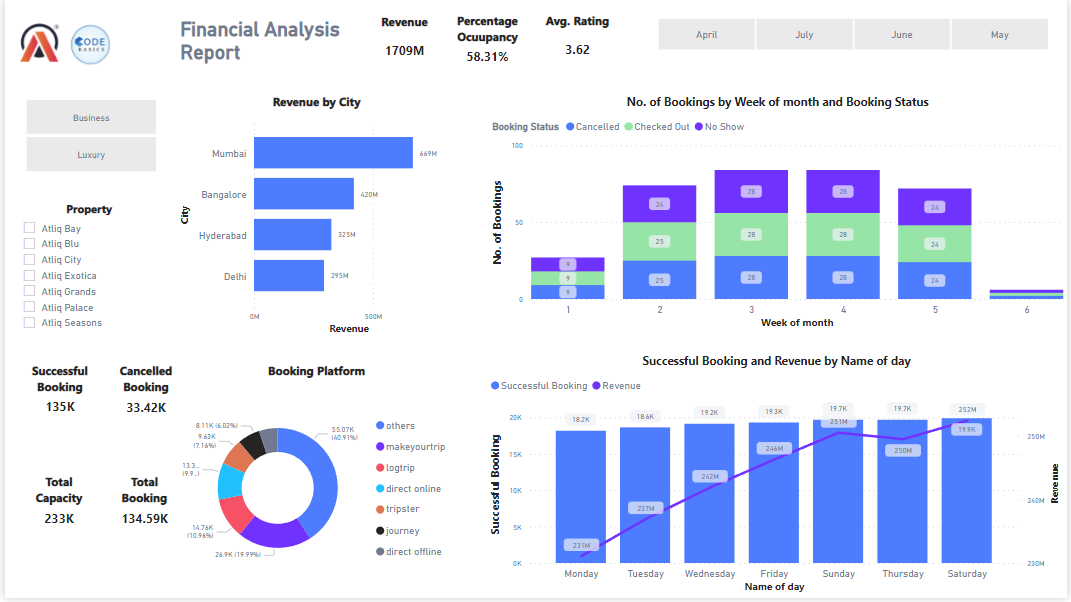

The dashboard page shown, as its layout file describes it:
{"tool":"powerbi","page":{"name":"Free Template","canvas":[1280,720],"ordinal":0},"visuals":[{"type":"card","title":"Revenue","fields":{"Values":["Sum(fact_bookings.revenue_realized)"]},"box":[431.8,16.5,100,72.9],"z":1000},{"type":"card","title":"Total Booking","fields":{"Values":["Count(fact_bookings.booking_id)"]},"box":[118.8,571.2,97.5,72.5],"z":2000},{"type":"card","title":"Avg. Rating","fields":{"Values":["Avg(fact_bookings.ratings_given)"]},"box":[640,15.3,100,71.8],"z":3000},{"type":"card","title":"Total Capacity","fields":{"Values":["Sum(fact_aggregated_bookings.capacity)"]},"box":[16.2,571.2,98.8,72.5],"z":4000},{"type":"card","title":"Successful Booking","fields":{"Values":["Sum(fact_aggregated_bookings.successful_bookings)"]},"box":[10.6,437.6,110.6,71.8],"z":5000},{"type":"card","title":"Cancelled Booking","fields":{"Values":["CountNonNull(fact_bookings.booking_status)"]},"box":[120,437.5,98.8,72.5],"z":6000},{"type":"card","title":"Percentage Ocuupancy","fields":{"Values":["Avg(fact_aggregated_bookings.Per_occu)"]},"box":[531.8,15.3,100,71.8],"z":7000},{"type":"lineStackedColumnComboChart","fields":{"Category":["fact_bookings.weekofmonth"],"Y":["Count(fact_bookings.booking_date)"],"Series":["fact_bookings.booking_status"]},"box":[582.4,112.9,697.6,287.1],"z":8000},{"type":"slicer","title":"Property","fields":{"Values":["dim_hotels.property_name"]},"box":[9.4,242.4,183.5,183.5],"z":9000},{"type":"slicer","fields":{"Values":["dim_hotels.category"]},"box":[0,112.9,205.9,100],"z":10000},{"type":"slicer","fields":{"Values":["fact_bookings.month"]},"box":[761,15.3,519,50.5],"z":11000},{"type":"lineClusteredColumnComboChart","fields":{"Category":["fact_bookings.nameofday"],"Y2":["Sum(fact_bookings.revenue_realized)"],"Y":["CountNonNull(fact_bookings.check_in_date)"]},"box":[580,425.9,700,292.9],"z":12000},{"type":"image","box":[0,0,141.2,112.5],"z":13000},{"type":"textbox","box":[205.9,16.5,225.9,70.6],"z":14000},{"type":"donutChart","title":"Booking Platform","fields":{"Category":["fact_bookings.booking_platform"],"Y":["CountNonNull(fact_bookings.booking_id)"]},"box":[205.9,437.6,338.8,282.4],"z":15000},{"type":"barChart","fields":{"Category":["dim_hotels.city"],"Y":["Sum(fact_bookings.revenue_realized)"]},"box":[205.9,112.9,338.8,295.3],"z":16000}]}

Visuals, with their boxes in screenshot pixels (x1, y1, x2, y2), scaled from the page's 1280x720 canvas onto the 1071x602 screenshot:
"Revenue" card: (361, 14, 445, 75)
"Total Booking" card: (99, 478, 181, 538)
"Avg. Rating" card: (536, 13, 619, 73)
"Total Capacity" card: (14, 478, 96, 538)
"Successful Booking" card: (9, 366, 101, 426)
"Cancelled Booking" card: (100, 366, 183, 426)
"Percentage Ocuupancy" card: (445, 13, 529, 73)
lineStackedColumnComboChart - fact_bookings.weekofmonth x Count(fact_bookings.booking_date): (487, 94, 1070, 334)
"Property" slicer: (8, 203, 161, 356)
slicer - dim_hotels.category: (0, 94, 172, 178)
slicer - fact_bookings.month: (637, 13, 1070, 55)
lineClusteredColumnComboChart - fact_bookings.nameofday x Sum(fact_bookings.revenue_realized): (485, 356, 1070, 601)
image: (0, 0, 118, 94)
textbox: (172, 14, 361, 73)
"Booking Platform" donutChart: (172, 366, 456, 601)
barChart - dim_hotels.city x Sum(fact_bookings.revenue_realized): (172, 94, 456, 341)
